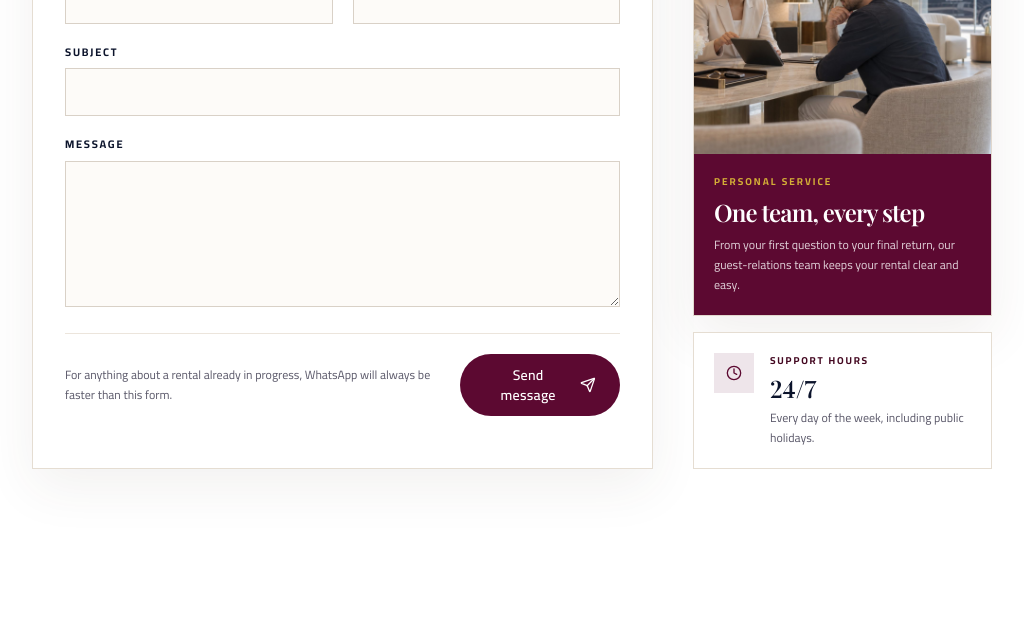
Test case: ContactPage › does not call the Edge Function when client-side validation fails
The width and height of the screenshot is (1024, 627).
(page scrolled)
Click the button "Send message".
click(540, 384)  # box [460,354,620,416]
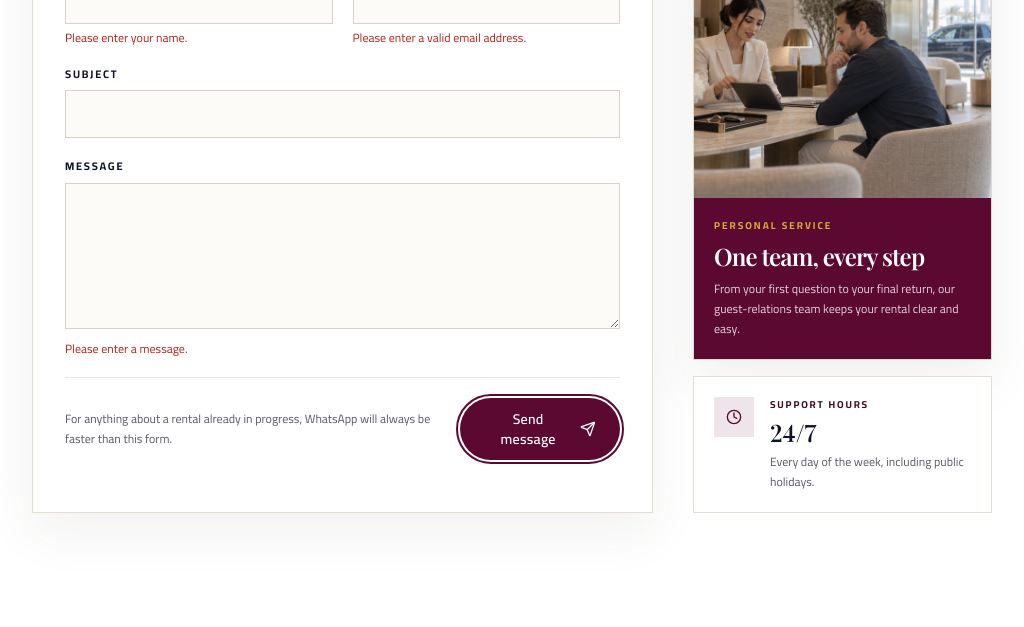
Check: the text "Please enter your name." is shown, box [65,26,187,48]
